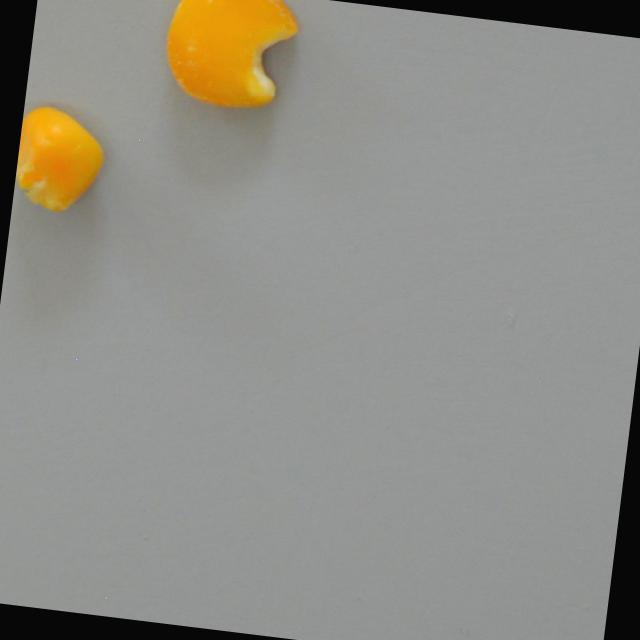pelicula: (157, 0, 301, 115), (11, 101, 109, 217)
